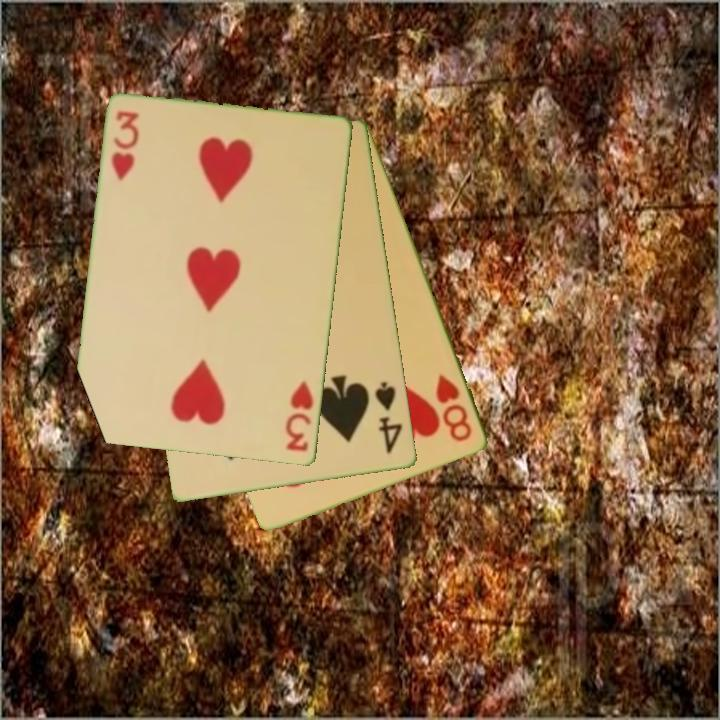3h: (282, 378, 317, 455), (108, 108, 143, 184)
4s: (372, 378, 406, 457)
8h: (432, 371, 476, 445)
